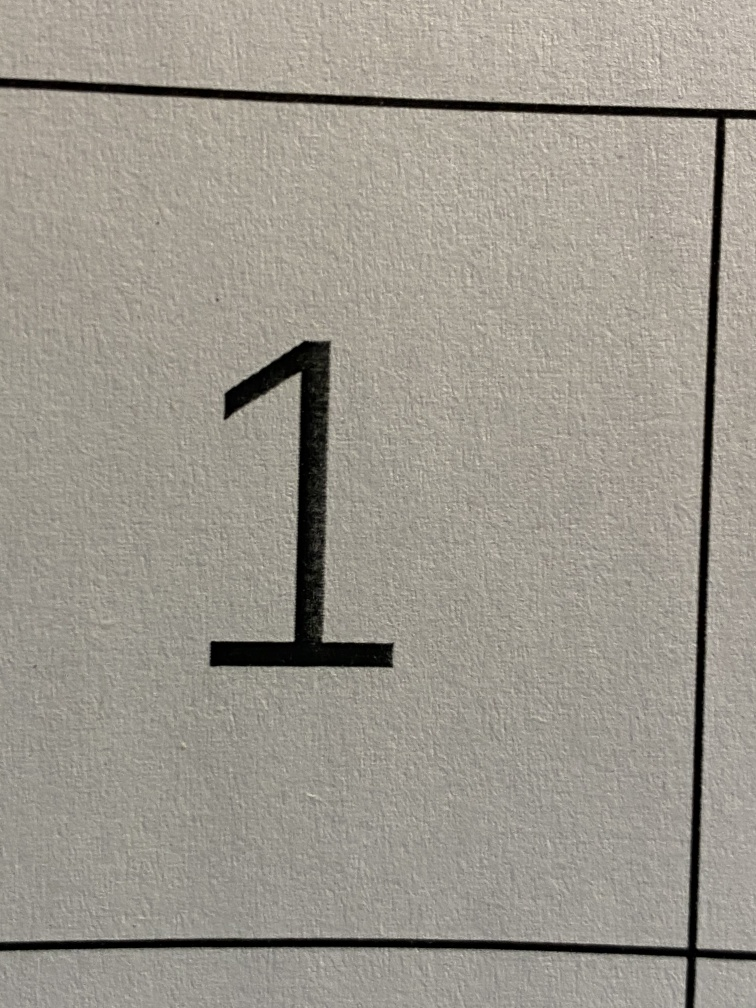one: (189, 309, 408, 733)
